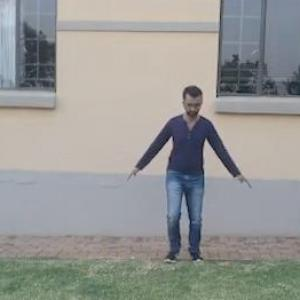land: (120, 84, 260, 268)
